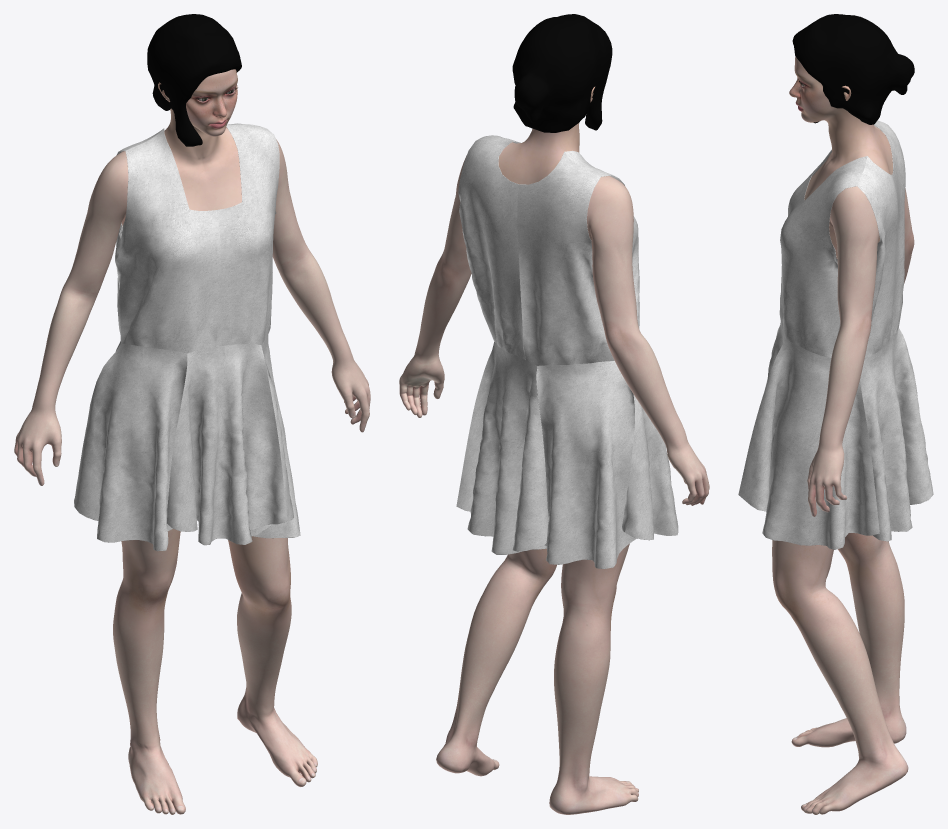
Rendered from random.obj.
The picture shows the model from 3 angles, left to right: view 1: azimuth 30°, elevation 25°; view 2: azimuth 150°, elevation 25°; view 3: azimuth 270°, elevation 25°; orthographic projection. The views are drawn at different scales.
Bounding box in the file's own units: 775 × 1773 × 418.
